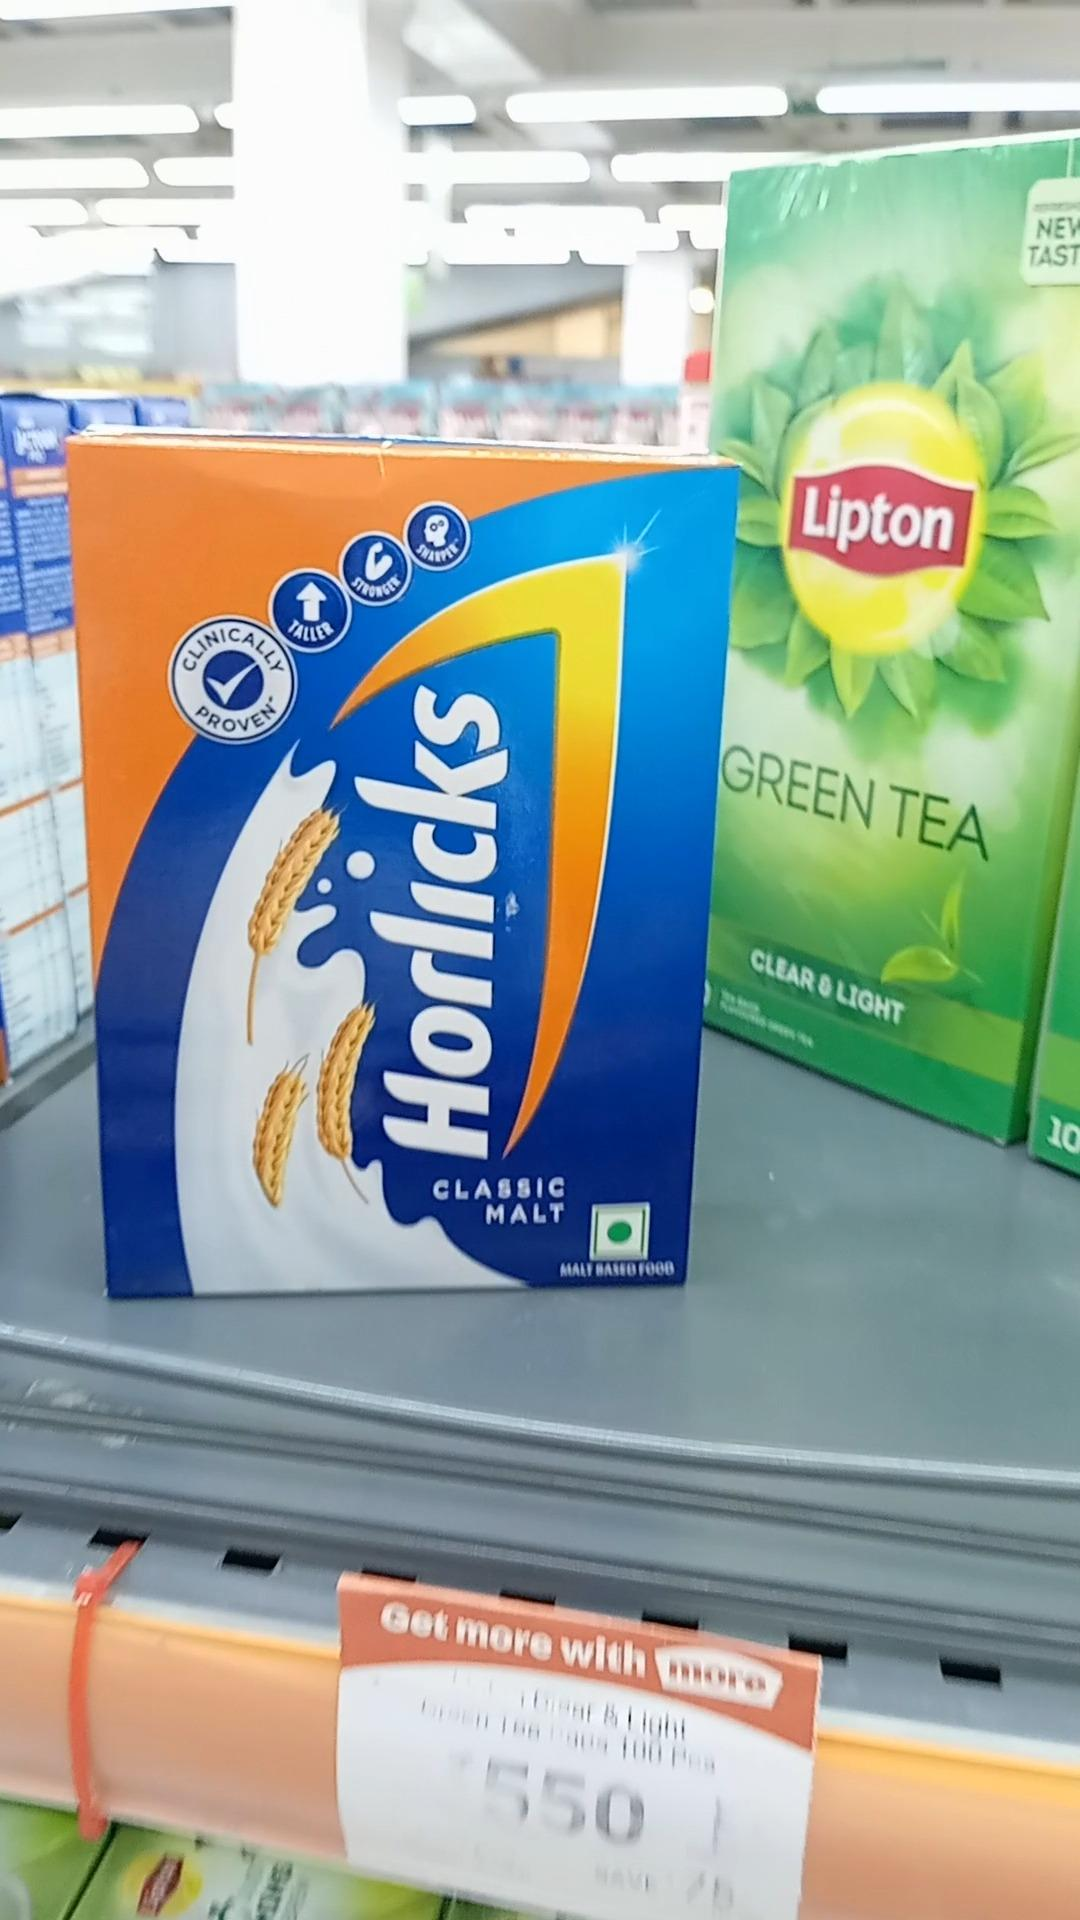HORLICK_CLASSIC_MALT_500_G_PACK: (96, 443, 704, 1276)
